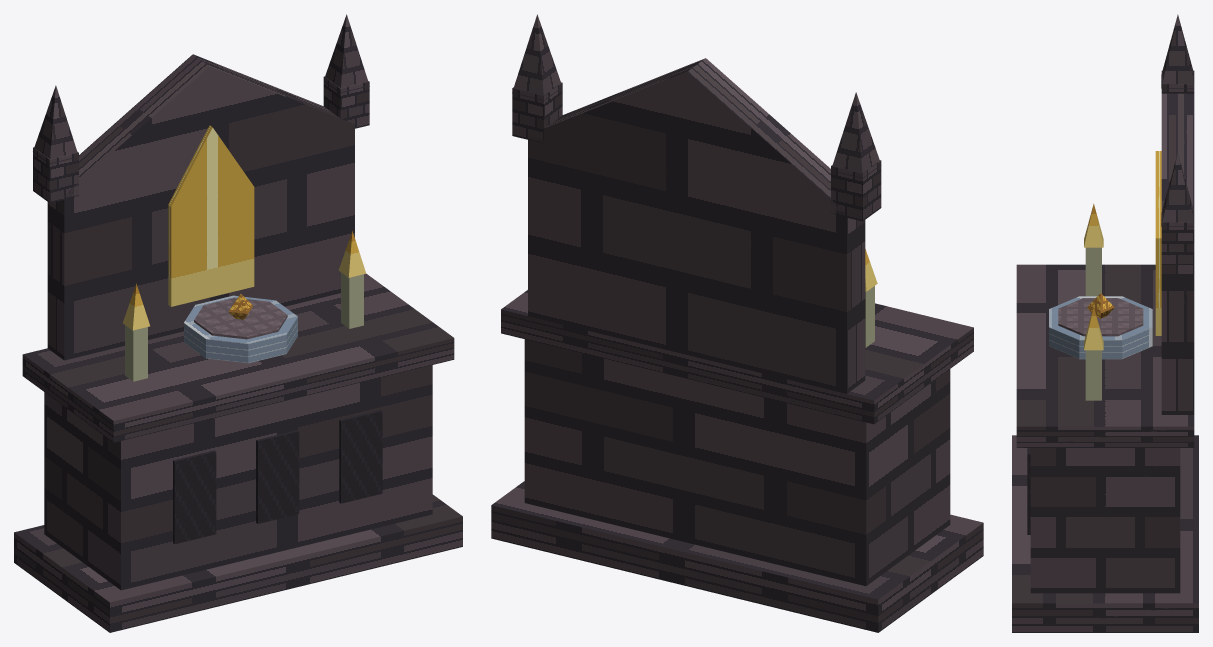
File: altar_c.glb
The picture shows the model from 3 angles, left to right: view 1: azimuth 30°, elevation 25°; view 2: azimuth 150°, elevation 25°; view 3: azimuth 270°, elevation 25°; orthographic projection. The views are drawn at different scales.
Parts seen in each view (by area): view 1: body, glut; view 2: body; view 3: body, glut.
Boxes of the visible parts, bbox=[...] form: body: bbox=[14, 14, 462, 632]; glut: bbox=[123, 125, 366, 330]; body: bbox=[491, 14, 983, 632]; body: bbox=[1012, 14, 1198, 632]; glut: bbox=[1084, 151, 1161, 350].
Size of the model in its own units: 1.7 by 2.2 by 0.8.
1 material, 1 textured.
